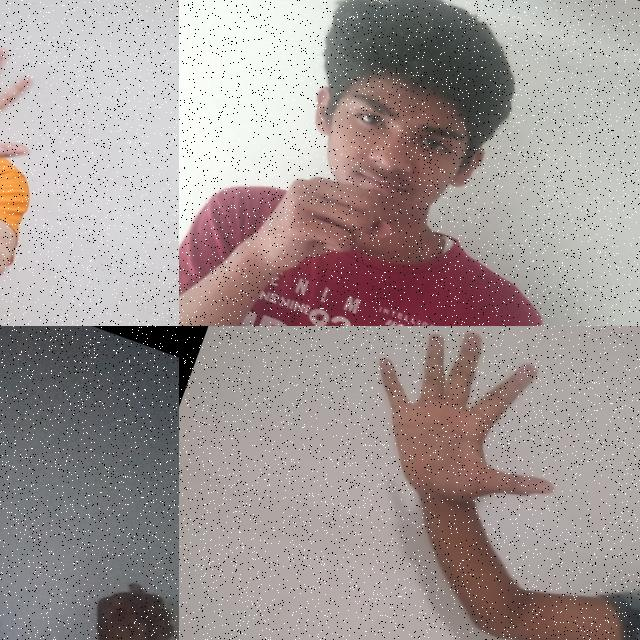Dulya: (70, 560, 179, 640)
Fist Mouth: (228, 0, 537, 326)
Moutza: (332, 326, 601, 556), (0, 19, 68, 188)
